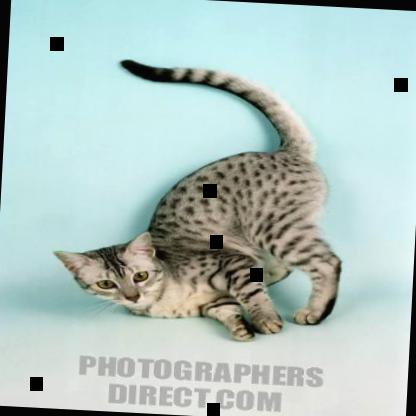cat: (48, 55, 352, 344)
